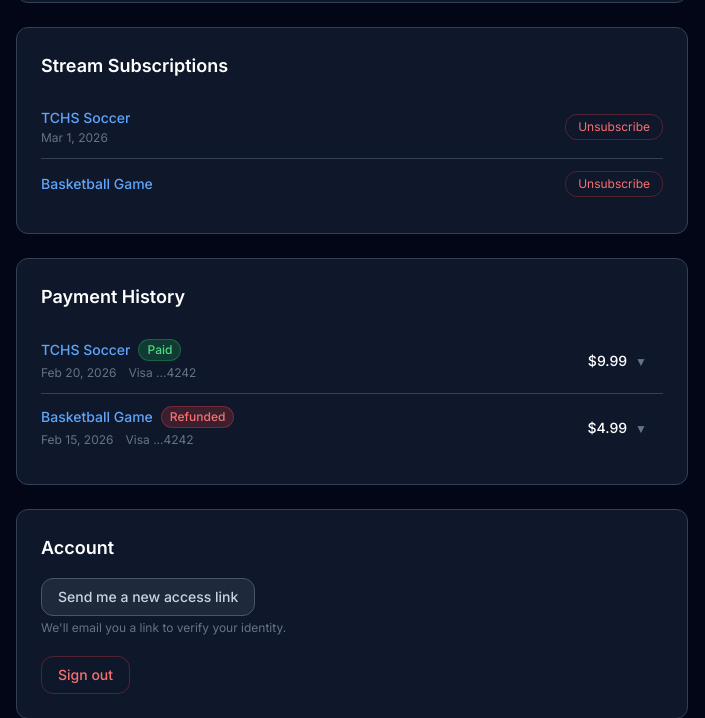
it: Account Page › Payment history section › should expand purchase to show receipt detail
(page scrolled)
Click the button with test id "btn-expand-p-001" at (160, 350), box [33,327,655,393]
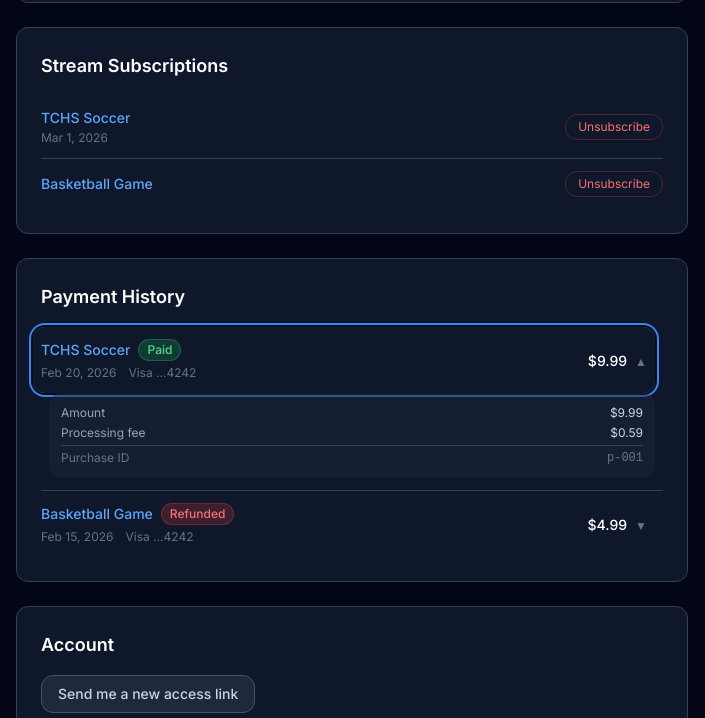
Expected: the element with test id "receipt-p-001" is shown, [41,393,663,490]
